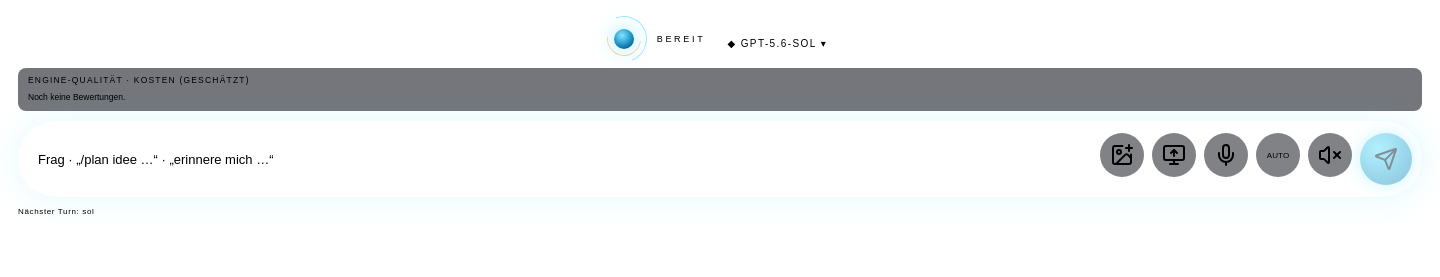
Test: JarvisChat (LIVE-Kontrakt /api/pa/*, Payload-Shapes aus test_pa_chat.py) › Mic-Permission verweigert → deutsche Meldung, kein Absturz
Click the button named "Diktieren": (1226, 155) [1204,133,1248,177]
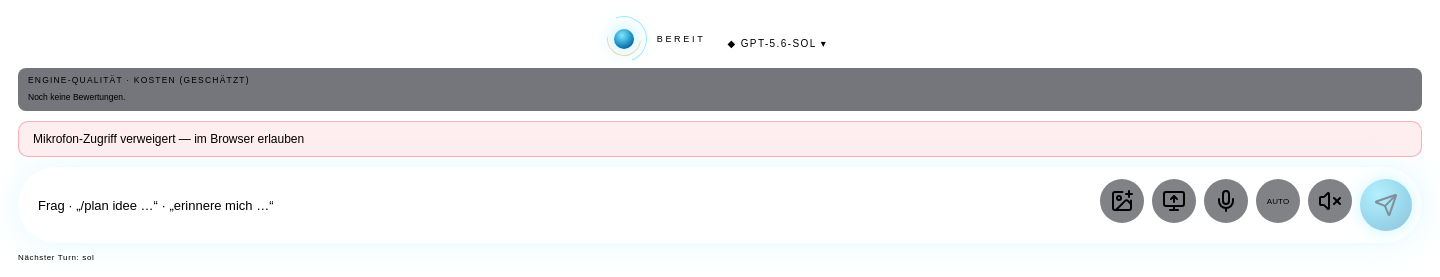
Expected: the button named "Diktieren" is shown, [1204,179,1248,223]
Expected: the message reads "Mikrofon-Zugriff verweigert — im Browser erlauben", [33,132,304,146]
